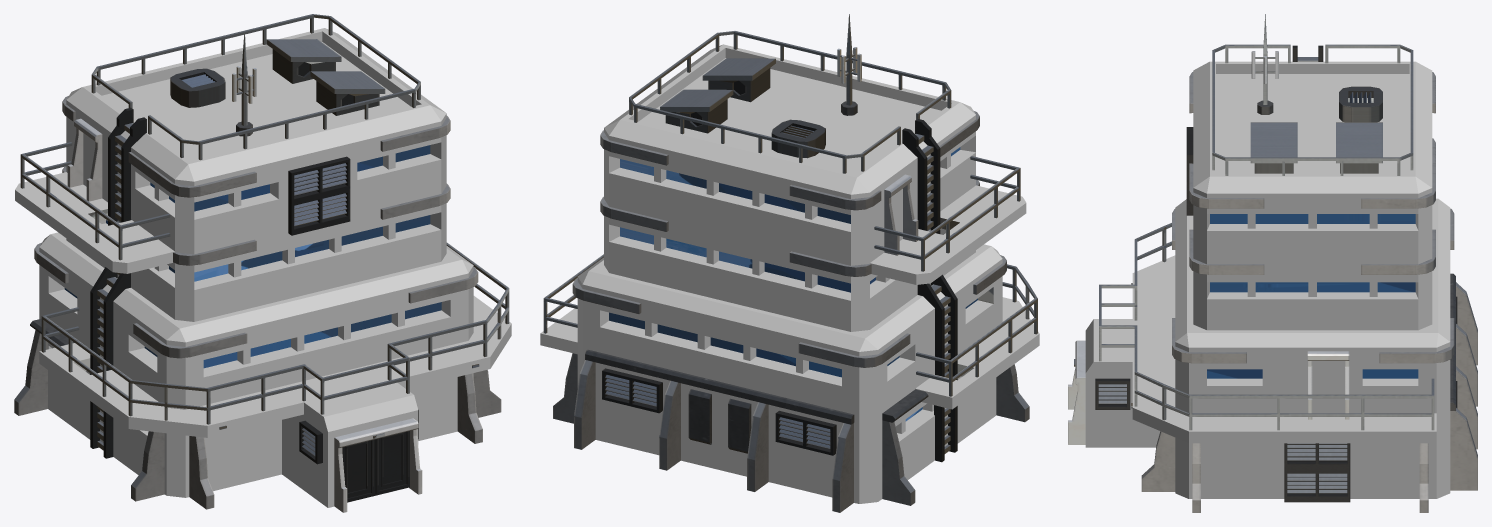
Rendered from House3.fbx.
3 renders of one model, left to right at view 1: azimuth 30°, elevation 25°; view 2: azimuth 150°, elevation 25°; view 3: azimuth 270°, elevation 25°, orthographic. The views are drawn at different scales.
Visible parts, largest first — view 1: Cube.041_Cube.100; view 2: Cube.041_Cube.100; view 3: Cube.041_Cube.100.
Boxes of the visible parts, left/top/right/bottom form: Cube.041_Cube.100: left=14, top=14, right=511, bottom=512; Cube.041_Cube.100: left=540, top=14, right=1039, bottom=512; Cube.041_Cube.100: left=1068, top=14, right=1477, bottom=512.
Bounding box in the file's own units: 1070 × 1080 × 1016.
